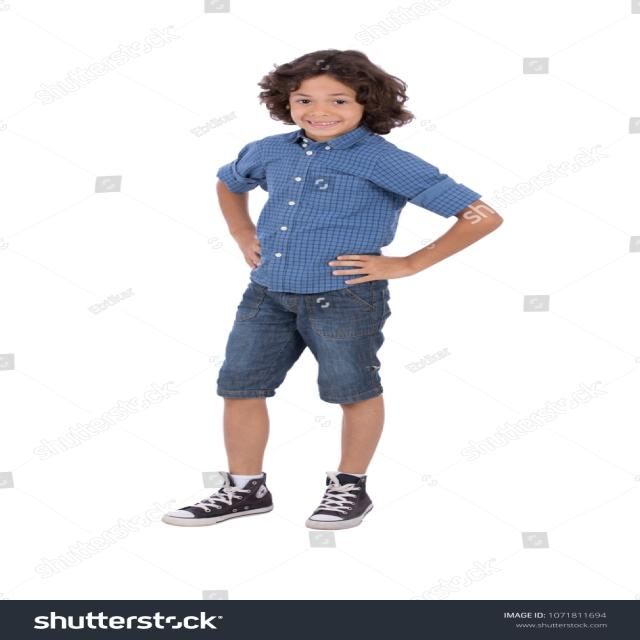child: (136, 37, 516, 560)
